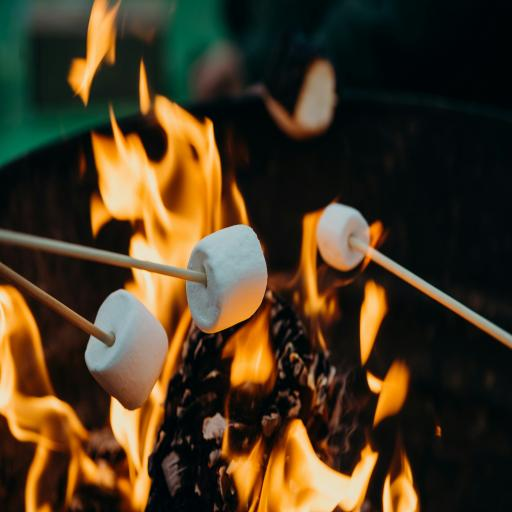campfire: (2, 20, 509, 512)
